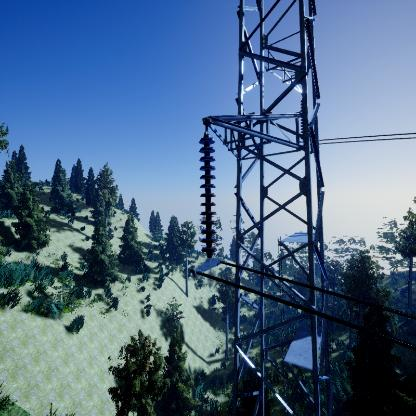insulator: (197, 134, 220, 258)
